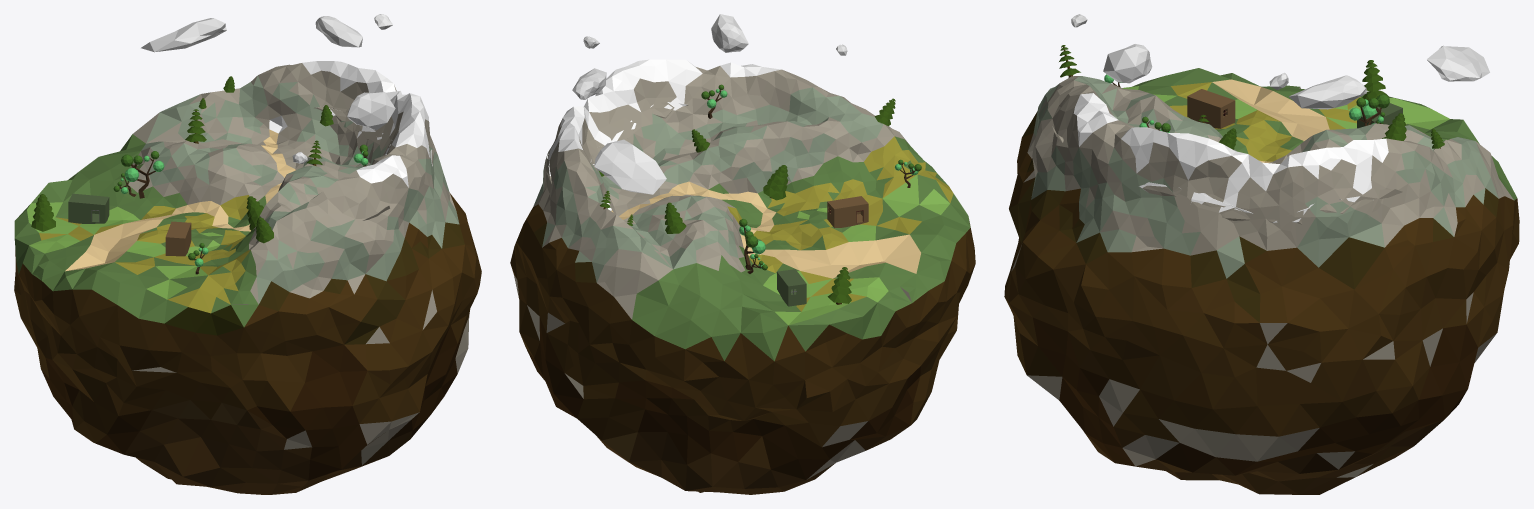
The model's file is island_1119.fbx.
The picture shows the model from 3 angles, left to right: view 1: azimuth 30°, elevation 25°; view 2: azimuth 150°, elevation 25°; view 3: azimuth 270°, elevation 25°; orthographic projection. The views are drawn at different scales.
Visible parts, largest first — view 1: Land, Cloud.002, Cloud.003, House.001, Cloud, House, Tree, Pine.006; view 2: Land, Cloud.002, House, Cloud.003, House.001, Cloud, Pine.004, Pine.006, Tree; view 3: Land, Cloud, Cloud.002, House, Cloud.003, Tree, Pine.006.
Boxes of the visible parts, x1,y1,x2,y2 form: Land: [14, 61, 481, 494]; Cloud.002: [141, 18, 226, 52]; Cloud.003: [347, 92, 395, 130]; House.001: [68, 193, 109, 223]; Cloud: [315, 16, 362, 47]; House: [165, 221, 191, 256]; Tree: [121, 151, 164, 198]; Pine.006: [31, 194, 55, 231]; Land: [510, 59, 975, 494]; Cloud.002: [594, 139, 666, 194]; House: [827, 196, 868, 228]; Cloud.003: [711, 14, 748, 52]; House.001: [777, 269, 806, 306]; Cloud: [572, 68, 606, 99]; Pine.004: [763, 165, 788, 200]; Pine.006: [827, 267, 851, 304]; Tree: [739, 219, 765, 270]; Land: [1004, 68, 1519, 494]; Cloud: [1289, 75, 1366, 109]; Cloud.002: [1427, 45, 1489, 81]; House: [1187, 89, 1235, 128]; Cloud.003: [1103, 44, 1152, 83]; Tree: [1349, 94, 1389, 126]; Pine.006: [1362, 60, 1389, 101].
Bounding box in the file's own units: 1944 × 1934 × 1871.
